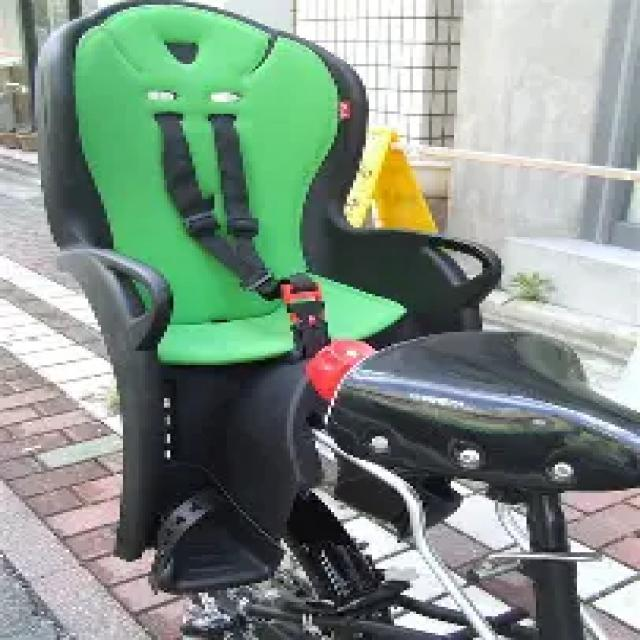childseat: (36, 3, 506, 595)
